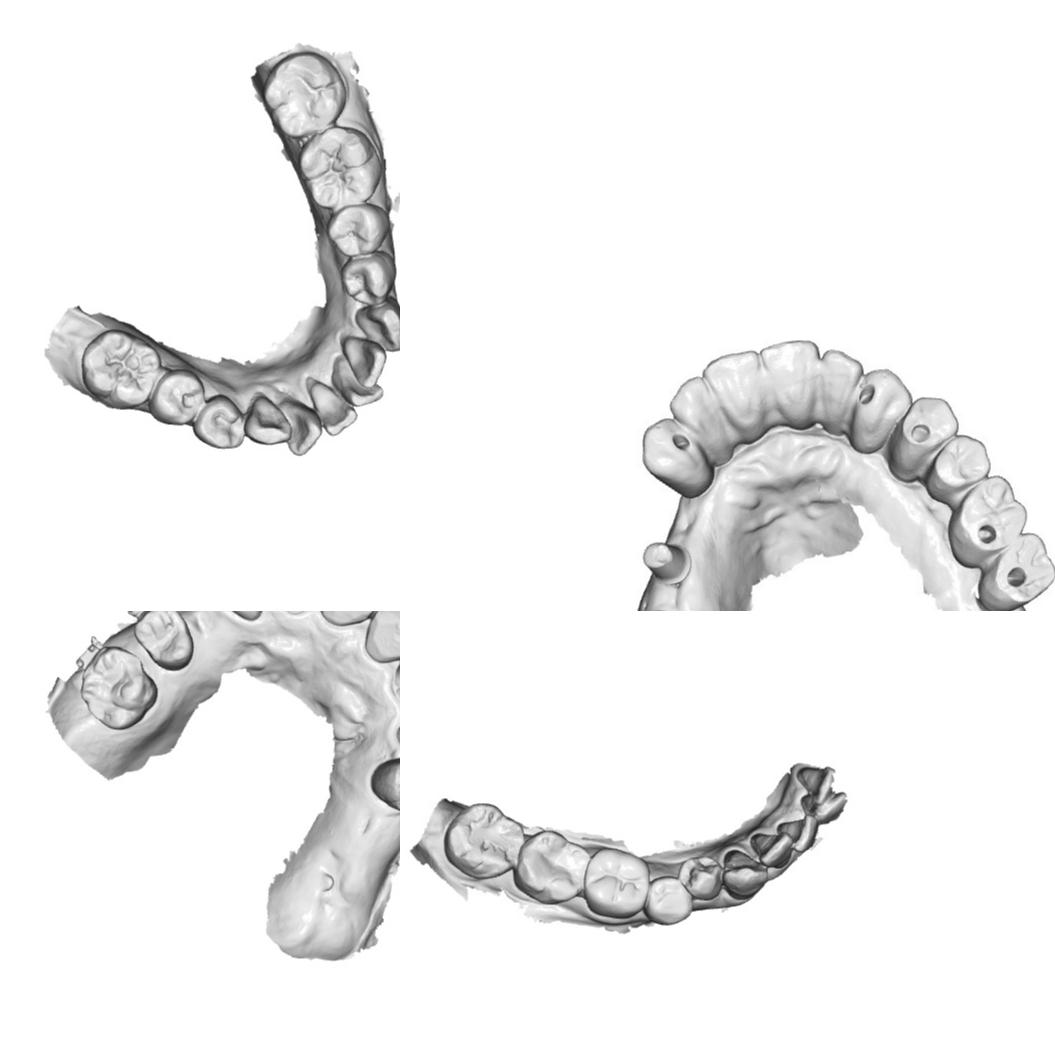abutment: (639, 536, 691, 587)
canine: (848, 359, 910, 449), (638, 417, 708, 486), (719, 846, 770, 903), (355, 299, 400, 354), (244, 393, 288, 446)
incisor: (758, 338, 823, 423), (699, 348, 767, 422), (668, 374, 727, 442), (818, 346, 865, 424), (312, 380, 355, 439), (282, 398, 322, 458), (343, 339, 390, 389), (330, 373, 384, 408), (364, 611, 400, 662), (776, 813, 820, 853), (749, 830, 793, 869), (793, 765, 835, 804), (798, 792, 851, 821), (320, 611, 387, 628)
molar: (77, 644, 159, 732), (948, 474, 1028, 562), (441, 800, 527, 881), (265, 57, 348, 137), (301, 128, 380, 209), (512, 828, 593, 905), (81, 330, 159, 409), (980, 531, 1055, 610), (583, 844, 653, 919)
premolar: (892, 394, 958, 472), (929, 432, 991, 494), (133, 611, 195, 669), (155, 366, 207, 427), (325, 206, 385, 254), (196, 395, 243, 453), (645, 875, 695, 926), (345, 253, 393, 302), (675, 854, 723, 902), (370, 753, 400, 820)
